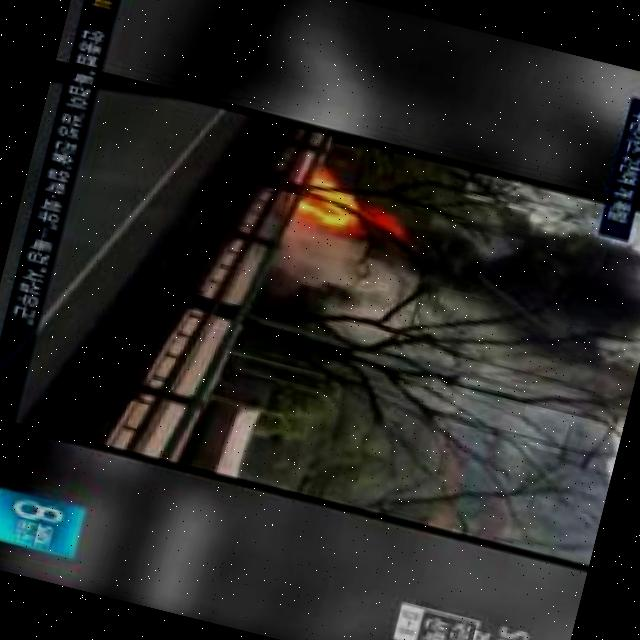fire: (290, 162, 400, 247)
